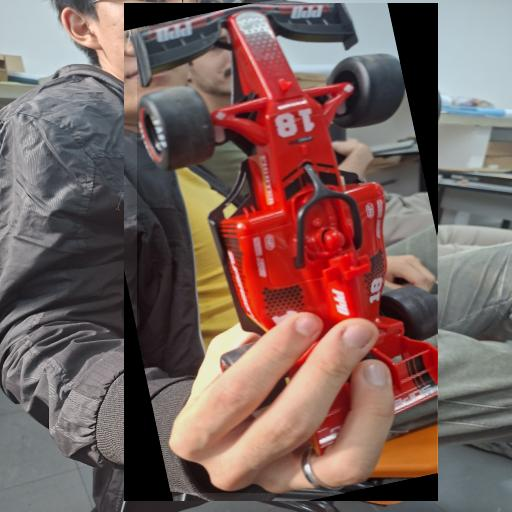carro: (138, 3, 437, 493)
